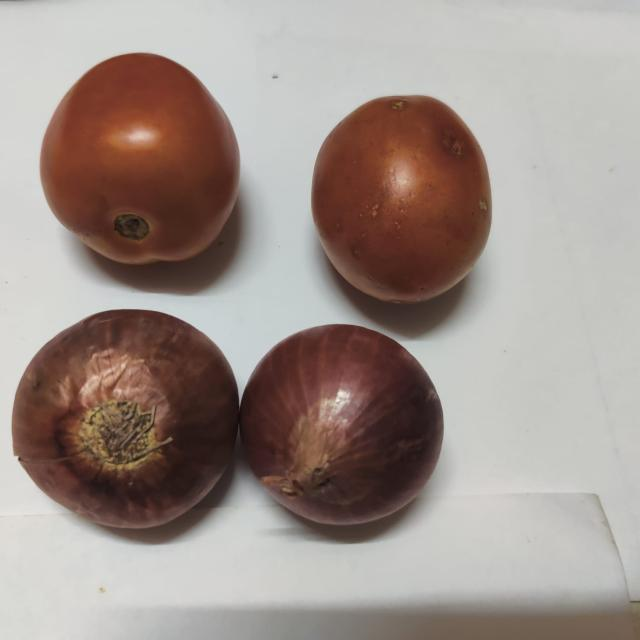Organik: (0, 303, 239, 543), (295, 80, 525, 314), (33, 48, 247, 278), (234, 312, 451, 534)
